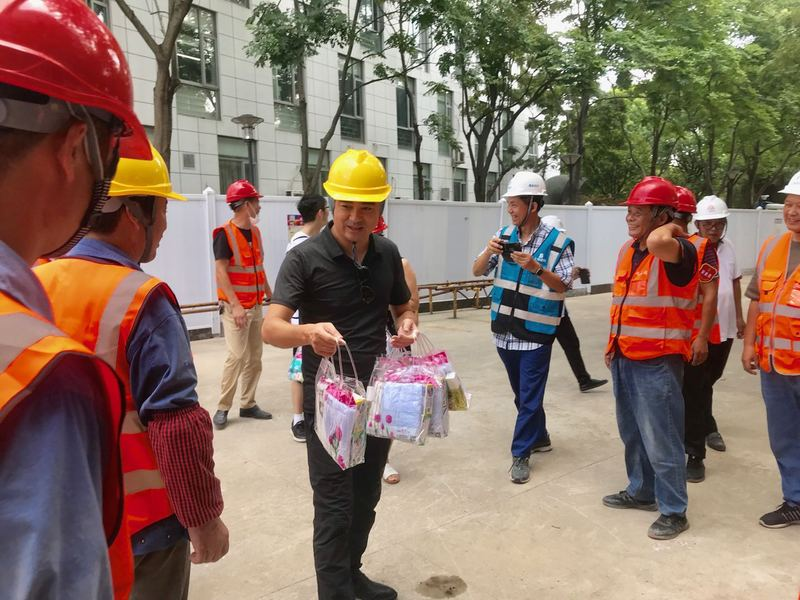safetyhat: (273, 148, 448, 592), (604, 169, 715, 533), (469, 158, 587, 470), (205, 167, 271, 434)
